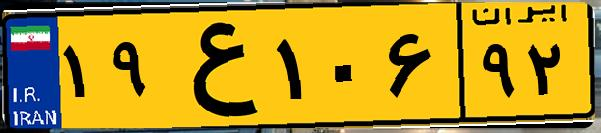0: (330, 28, 385, 110)
1: (270, 28, 330, 110), (57, 26, 110, 100)
2: (525, 38, 570, 115)
6: (385, 28, 445, 110)
9: (475, 38, 525, 113), (110, 28, 158, 98)
ع: (158, 12, 270, 120)
